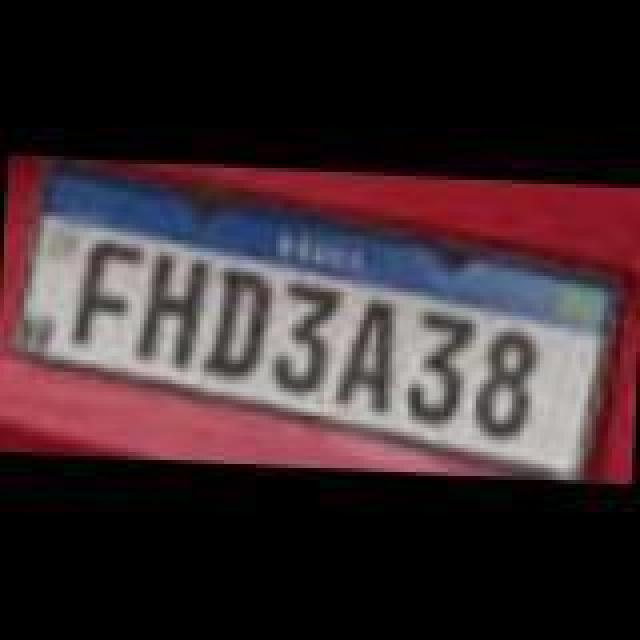3: (276, 276, 348, 396), (406, 304, 474, 424)
8: (472, 328, 536, 440)
A: (332, 298, 404, 422)
D: (204, 260, 276, 380)
F: (66, 234, 142, 350)
H: (136, 252, 216, 372)
